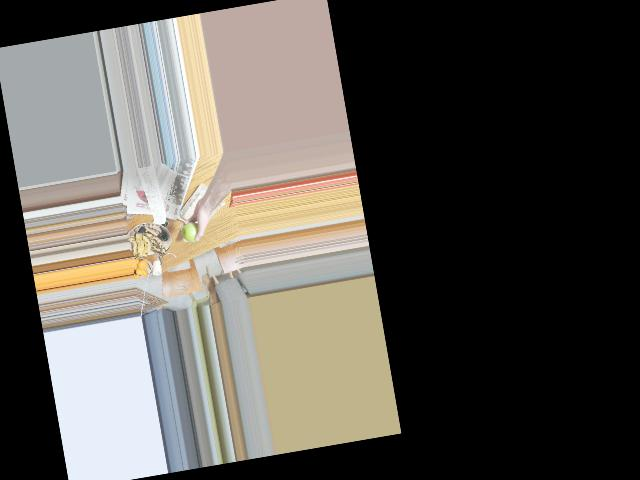apple: (180, 217, 204, 244)
